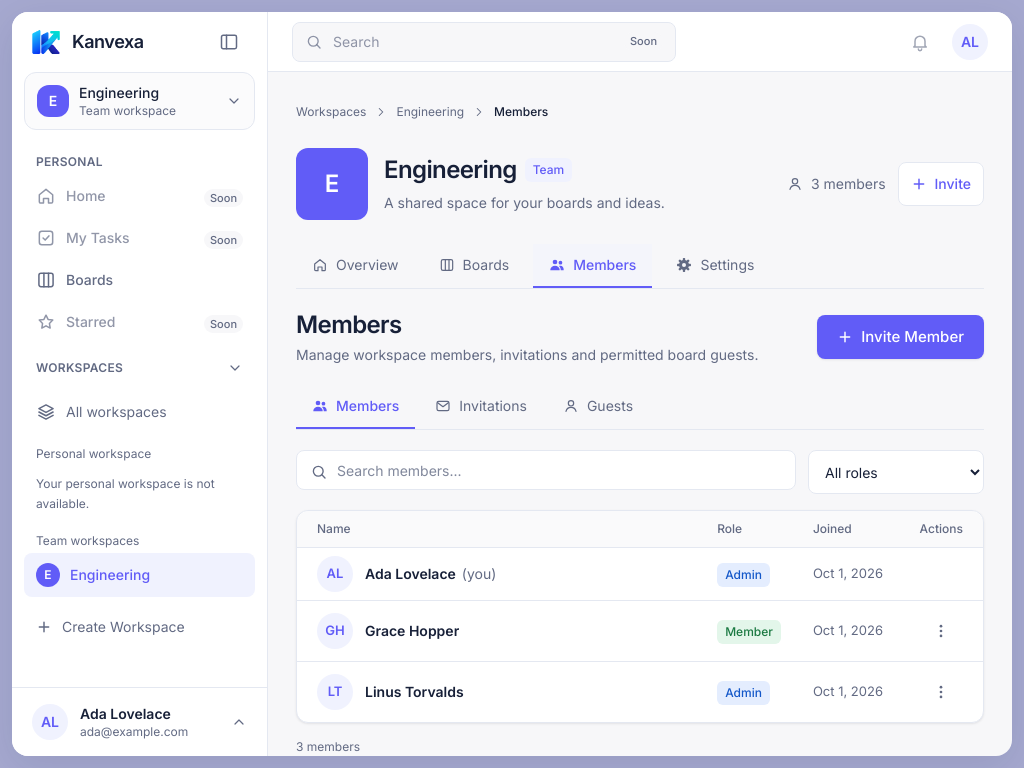
Test case: Workspace Members page › removes a member only after the server confirms
Click the button named "Actions for Grace Hopper" at point(941, 631), box [919,609,963,653]
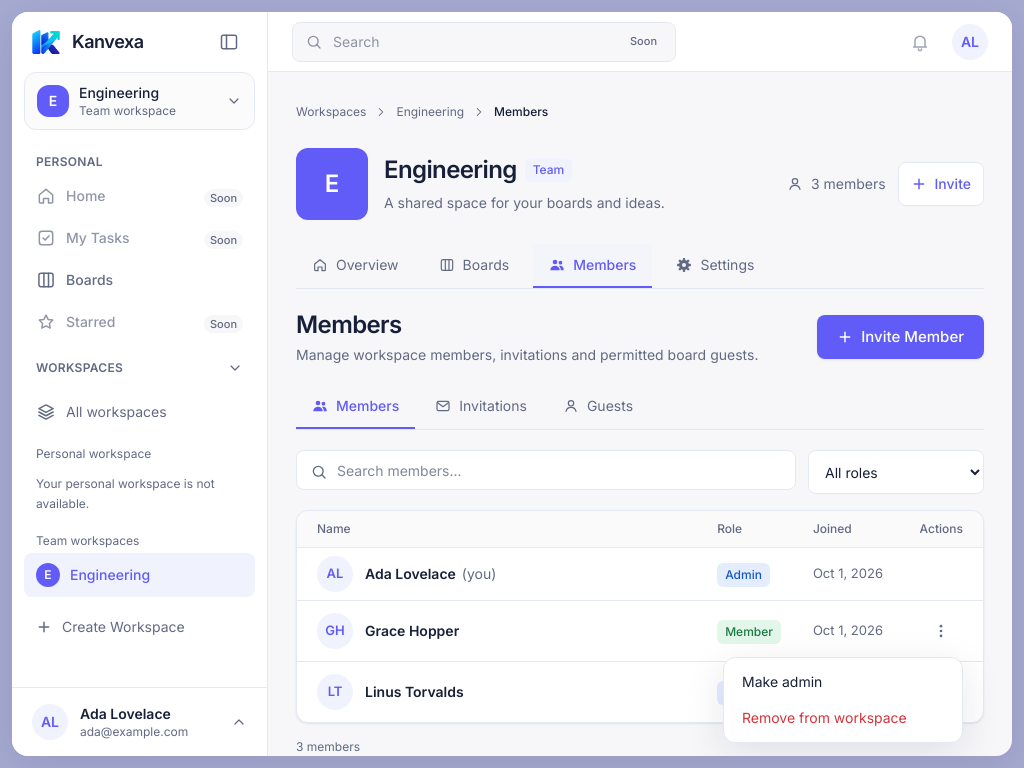
Click the button "Remove from workspace" at point(843, 718), box [730,700,956,736]
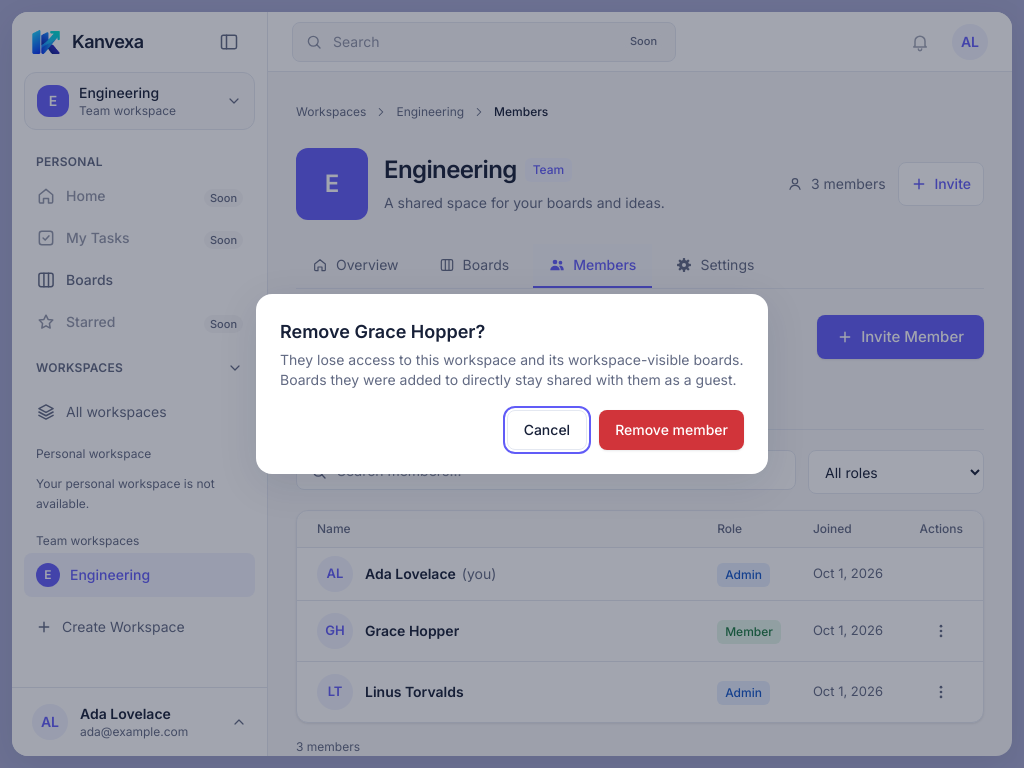
Expected: the dialog "Remove Grace Hopper?" shows "stay shared with them as a guest", [280,351,743,388]
Click the button "Remove member" at point(672, 430), box [599,410,744,450]
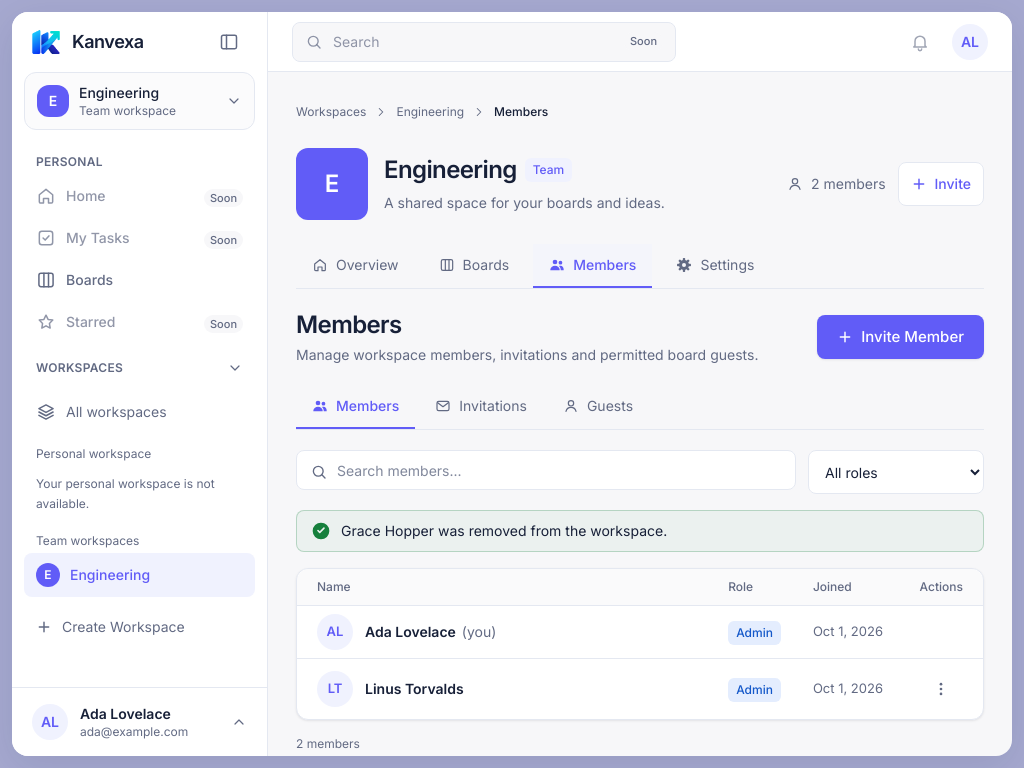
Expected: the text "Grace Hopper was removed from the workspace." is shown, [341,522,667,539]
Expected: the 1st text "2 members" is shown, [787,174,886,194]
Expected: the text "3 members" is gone
